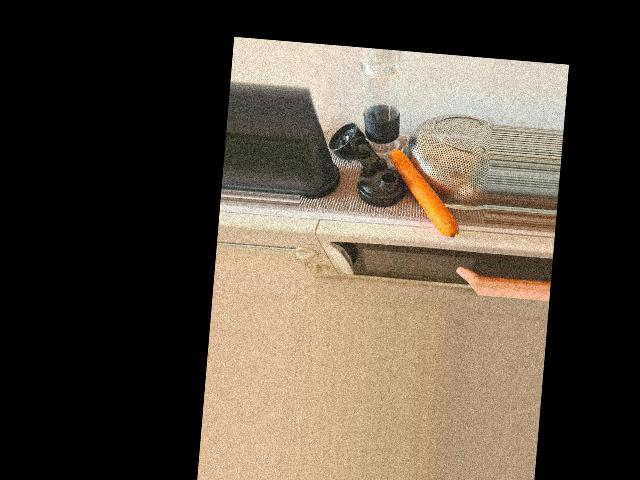carrot: (385, 150, 464, 238)
